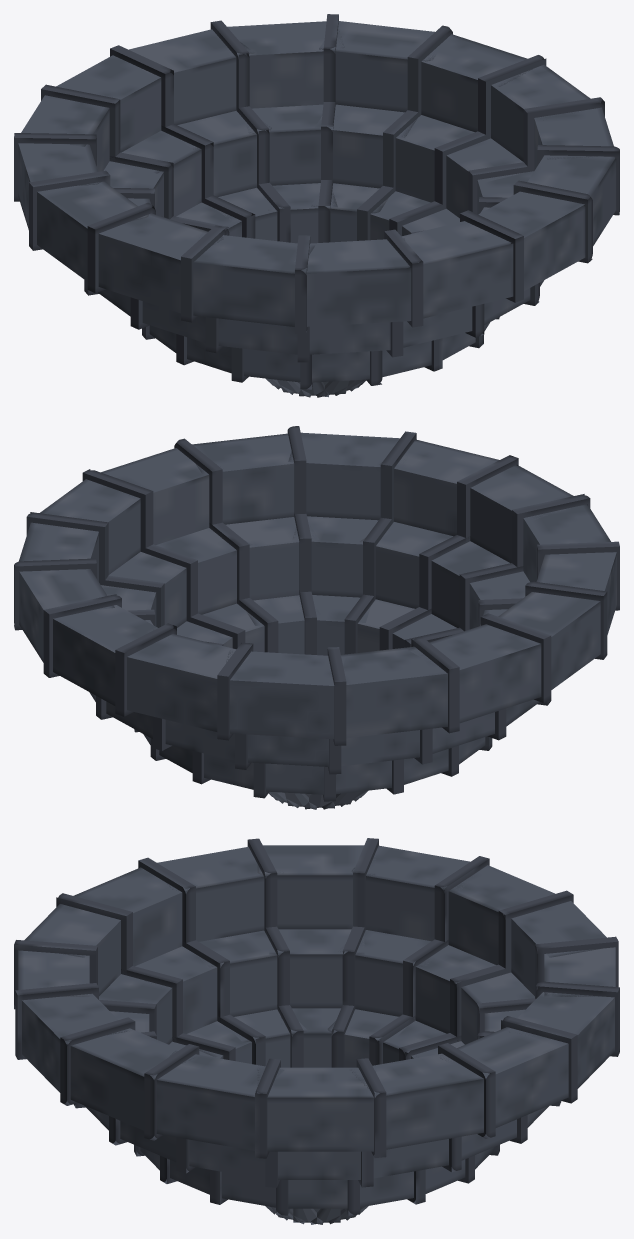
The model's file is tardis_toyota_spinner.obj.
3 views of the same model, one above another, from view 1: azimuth 30°, elevation 25°; view 2: azimuth 150°, elevation 25°; view 3: azimuth 270°, elevation 25° (orthographic).
Parts seen in each view (by area): view 1: rotor_3_body_6, rotor_3_body_5, rotor_3_body_7, rotor_3_body_12, rotor_3_body_0, rotor_3_body_1, rotor_3_body_2, rotor_3_body_8, rotor_3_body_15, rotor_3_body_11, rotor_3_body_3, rotor_2_body_0 (+56 smaller); view 2: rotor_3_body_3, rotor_3_body_4, rotor_3_body_2, rotor_3_body_10, rotor_3_body_8, rotor_3_body_9, rotor_3_body_7, rotor_3_body_1, rotor_3_body_13, rotor_3_body_11, rotor_3_body_6, rotor_2_body_8 (+56 smaller); view 3: rotor_3_body_14, rotor_3_body_13, rotor_3_body_15, rotor_3_body_11, rotor_3_body_0, rotor_3_body_9, rotor_3_body_10, rotor_3_body_12, rotor_3_body_4, rotor_3_body_5, rotor_3_body_8, rotor_2_body_11 (+56 smaller).
Boxes of the visible parts, x1,y1,x2,y2 form: rotor_3_body_6: [293, 238, 411, 326]; rotor_3_body_5: [193, 233, 315, 326]; rotor_3_body_7: [379, 221, 513, 318]; rotor_3_body_12: [98, 213, 223, 313]; rotor_3_body_0: [319, 21, 445, 112]; rotor_3_body_1: [227, 21, 344, 108]; rotor_3_body_2: [129, 29, 254, 124]; rotor_3_body_8: [464, 191, 585, 290]; rotor_3_body_15: [421, 34, 532, 132]; rotor_3_body_11: [37, 181, 148, 281]; rotor_3_body_3: [56, 55, 161, 152]; rotor_2_body_0: [314, 104, 417, 188]; rotor_3_body_3: [226, 650, 345, 739]; rotor_3_body_4: [341, 646, 447, 738]; rotor_3_body_2: [127, 629, 254, 731]; rotor_3_body_10: [407, 624, 541, 723]; rotor_3_body_8: [288, 432, 410, 520]; rotor_3_body_9: [192, 433, 311, 524]; rotor_3_body_7: [379, 439, 503, 536]; rotor_3_body_1: [53, 605, 173, 705]; rotor_3_body_13: [101, 448, 220, 544]; rotor_3_body_11: [494, 592, 600, 689]; rotor_3_body_6: [470, 465, 573, 563]; rotor_2_body_8: [293, 516, 378, 597]; rotor_3_body_14: [257, 1067, 376, 1151]; rotor_3_body_13: [152, 1051, 284, 1150]; rotor_3_body_15: [350, 1053, 486, 1149]; rotor_3_body_11: [257, 845, 376, 929]; rotor_3_body_0: [440, 1027, 568, 1127]; rotor_3_body_9: [65, 1028, 195, 1130]; rotor_3_body_10: [351, 845, 478, 941]; rotor_3_body_12: [157, 847, 283, 941]; rotor_3_body_4: [440, 865, 555, 964]; rotor_3_body_5: [73, 867, 197, 966]; rotor_3_body_8: [22, 993, 129, 1092]; rotor_2_body_11: [269, 929, 364, 1008].
Size of the model in its own units: 3.19 by 1.38 by 3.19.
